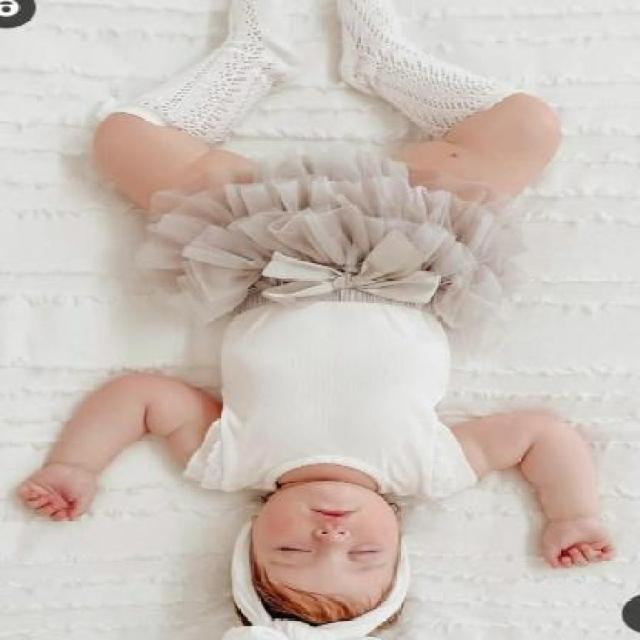baby: (9, 16, 616, 638)
